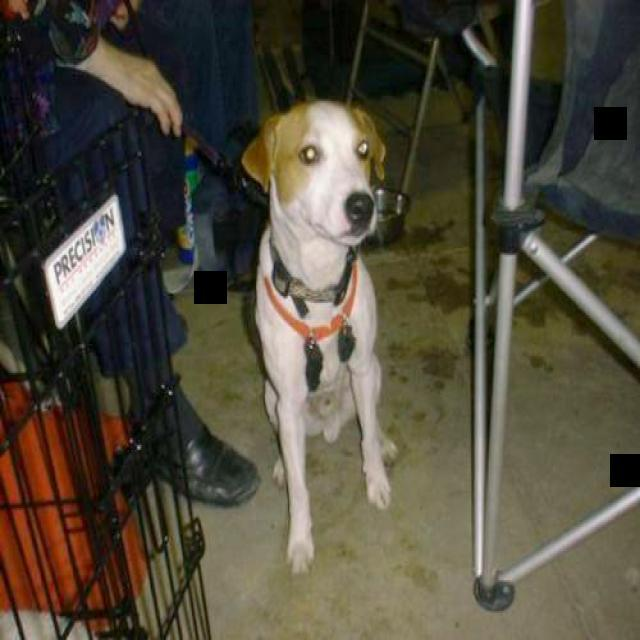adult_dog: (241, 99, 402, 575)
